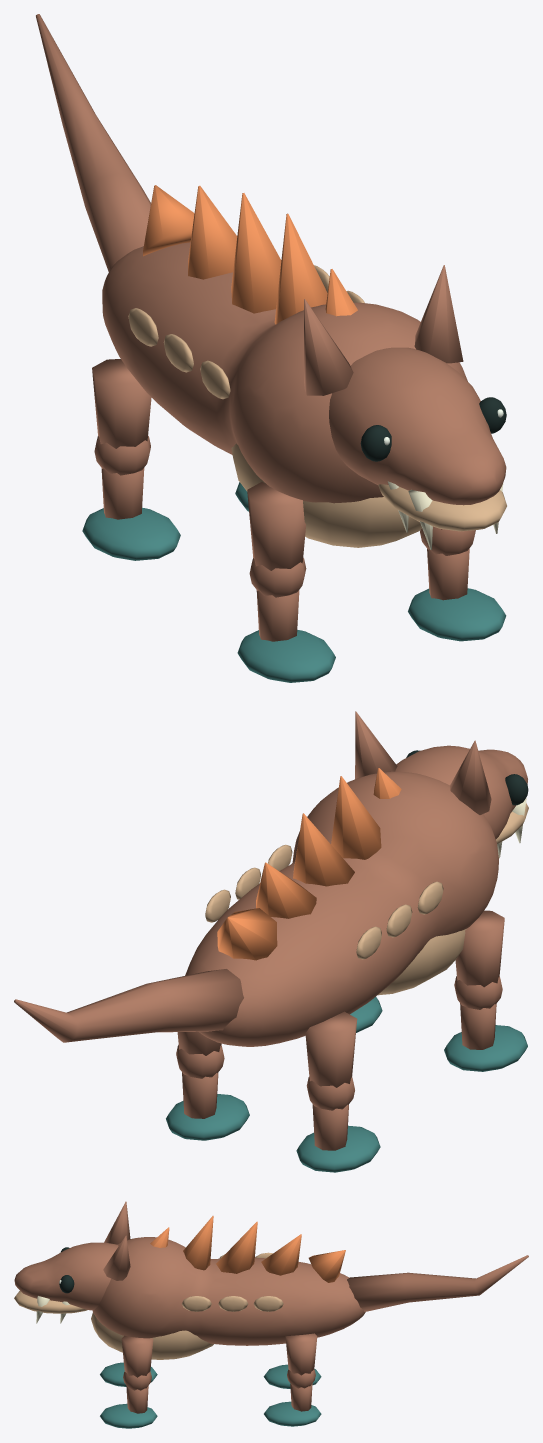
File: emberfang.glb
The picture shows the model from 3 angles, top to bottom: view 1: azimuth 30°, elevation 25°; view 2: azimuth 150°, elevation 25°; view 3: azimuth 270°, elevation 25°; orthographic projection. The views are drawn at different scales.
Visible parts, largest first — view 1: LeanPredator, PredatorHead, PredatorTail, PredatorChest, UpperLeg.006, UpperLeg.008, EmberMane.002, SpeciesFoot.007, SpeciesFoot.006, SpeciesFoot.008, EmberMane.003, EmberMane.001 (+15 smaller); view 2: LeanPredator, PredatorTail, PredatorHead, UpperLeg.008, UpperLeg.006, EmberMane.001, EmberMane.002, EmberMane.004, SpeciesFoot.008, SpeciesFoot.009, SpeciesFoot.006, PredatorChest (+17 smaller); view 3: LeanPredator, PredatorHead, PredatorTail, PredatorChest, EmberMane.002, UpperLeg.009, UpperLeg.007, SpeciesFoot.009, SpeciesFoot.007, EmberMane.001, EmberMane.003, EmberMane.004 (+12 smaller).
Boxes of the visible parts, x1,y1,x2,y2 form: LeanPredator: [102, 242, 467, 503]; PredatorHead: [329, 347, 506, 505]; PredatorTail: [36, 14, 150, 271]; PredatorChest: [231, 443, 421, 547]; UpperLeg.006: [247, 482, 305, 570]; UpperLeg.008: [92, 359, 151, 448]; EmberMane.002: [231, 193, 281, 313]; SpeciesFoot.007: [408, 588, 506, 641]; SpeciesFoot.006: [237, 630, 335, 682]; SpeciesFoot.008: [82, 507, 180, 560]; EmberMane.003: [188, 185, 237, 279]; EmberMane.001: [274, 213, 327, 324]; LeanPredator: [185, 771, 498, 1046]; PredatorTail: [14, 969, 243, 1042]; PredatorHead: [395, 745, 527, 839]; UpperLeg.008: [305, 1011, 357, 1087]; UpperLeg.006: [455, 910, 504, 987]; EmberMane.001: [331, 776, 381, 859]; EmberMane.002: [293, 813, 354, 886]; EmberMane.004: [217, 908, 277, 960]; SpeciesFoot.008: [296, 1125, 380, 1172]; SpeciesFoot.009: [166, 1094, 249, 1140]; SpeciesFoot.006: [444, 1025, 527, 1071]; PredatorChest: [378, 928, 466, 995]; LeanPredator: [92, 1237, 365, 1345]; PredatorHead: [14, 1242, 118, 1310]; PredatorTail: [347, 1255, 528, 1311]; PredatorChest: [91, 1313, 213, 1359]; EmberMane.002: [216, 1221, 257, 1273]; UpperLeg.009: [285, 1333, 317, 1375]; UpperLeg.007: [121, 1335, 153, 1377]; SpeciesFoot.009: [264, 1401, 321, 1426]; SpeciesFoot.007: [100, 1403, 157, 1428]; EmberMane.001: [183, 1216, 213, 1270]; EmberMane.003: [261, 1234, 301, 1275]; EmberMane.004: [308, 1250, 345, 1282].
Size of the model in its own units: 1.15 by 1.64 by 4.09.
